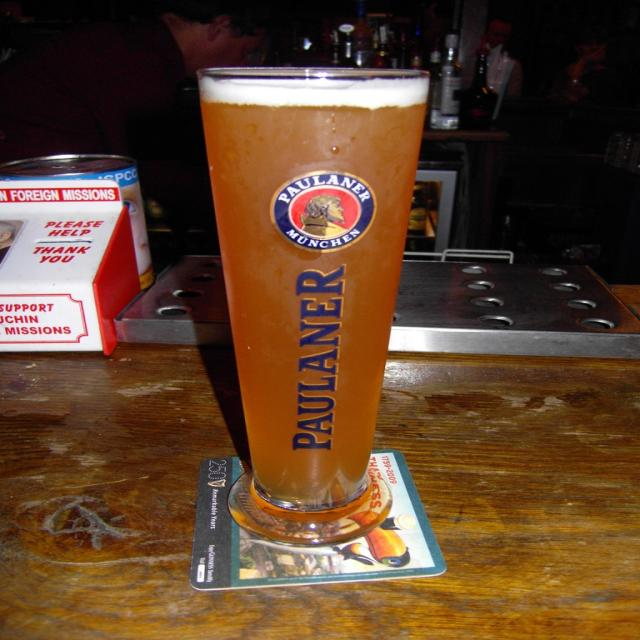paulaner: (270, 172, 375, 254)
